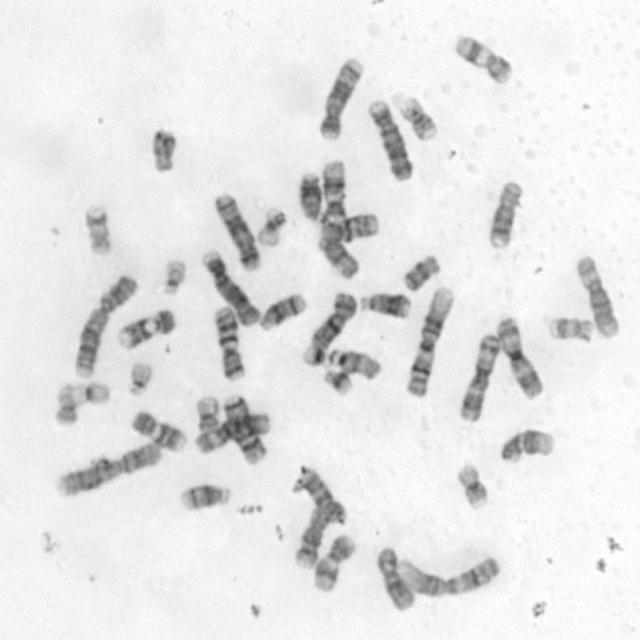A1: (402, 283, 456, 399), (395, 551, 503, 599)
A2: (69, 269, 139, 380), (51, 436, 163, 499)
A3: (493, 311, 545, 400), (454, 329, 502, 422)
B4: (198, 245, 262, 327), (365, 95, 415, 182)
B5: (315, 52, 365, 142), (211, 189, 262, 273)
C10: (294, 464, 348, 526), (314, 209, 382, 244)
C11: (451, 31, 513, 86), (308, 530, 357, 594)
C12: (496, 424, 555, 464), (320, 158, 347, 226)
C6: (572, 251, 620, 340), (190, 408, 271, 457)
C7: (218, 391, 268, 466), (211, 302, 247, 382)
C8: (290, 498, 341, 570), (484, 178, 525, 251)
C9: (127, 405, 190, 454), (112, 304, 178, 350)
D13: (357, 288, 413, 320), (294, 168, 324, 224)
D14: (255, 289, 307, 332), (176, 480, 232, 513)
D15: (313, 231, 361, 280), (325, 344, 382, 380)
E16: (398, 91, 440, 142), (454, 464, 490, 512)
E17: (80, 200, 113, 258), (546, 310, 594, 346)
E18: (399, 250, 442, 292), (147, 124, 180, 175)
F19: (58, 376, 113, 409), (252, 205, 288, 248)
F20: (192, 392, 224, 438), (50, 379, 80, 427)
G21: (320, 364, 355, 396)
G22: (158, 254, 188, 297), (124, 357, 155, 397)
X: (303, 288, 359, 354), (372, 543, 417, 612)
